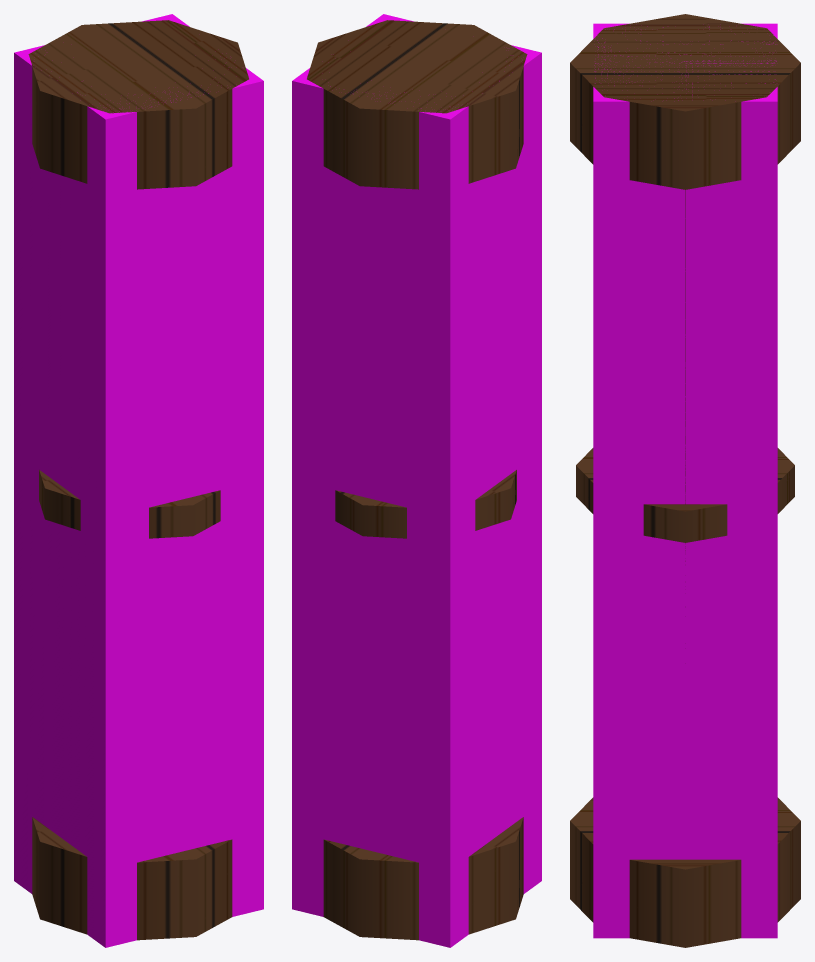
The model's file is tiang.glb.
3 renders of one model, left to right at view 1: azimuth 30°, elevation 25°; view 2: azimuth 150°, elevation 25°; view 3: azimuth 270°, elevation 25°, orthographic.
Parts seen in each view (by area): view 1: col_tiang, tiang_body; view 2: col_tiang, tiang_body; view 3: col_tiang, tiang_body.
Boxes of the visible parts, box(x1,y1,x2,y2) form: col_tiang: box(14, 14, 263, 947); tiang_body: box(28, 20, 248, 940); col_tiang: box(292, 14, 541, 947); tiang_body: box(307, 20, 527, 940); col_tiang: box(593, 23, 777, 938); tiang_body: box(570, 14, 800, 947).
Size of the model in its own units: 0.4 by 1.6 by 0.4.
Materials: 2 (1 with a texture image).
